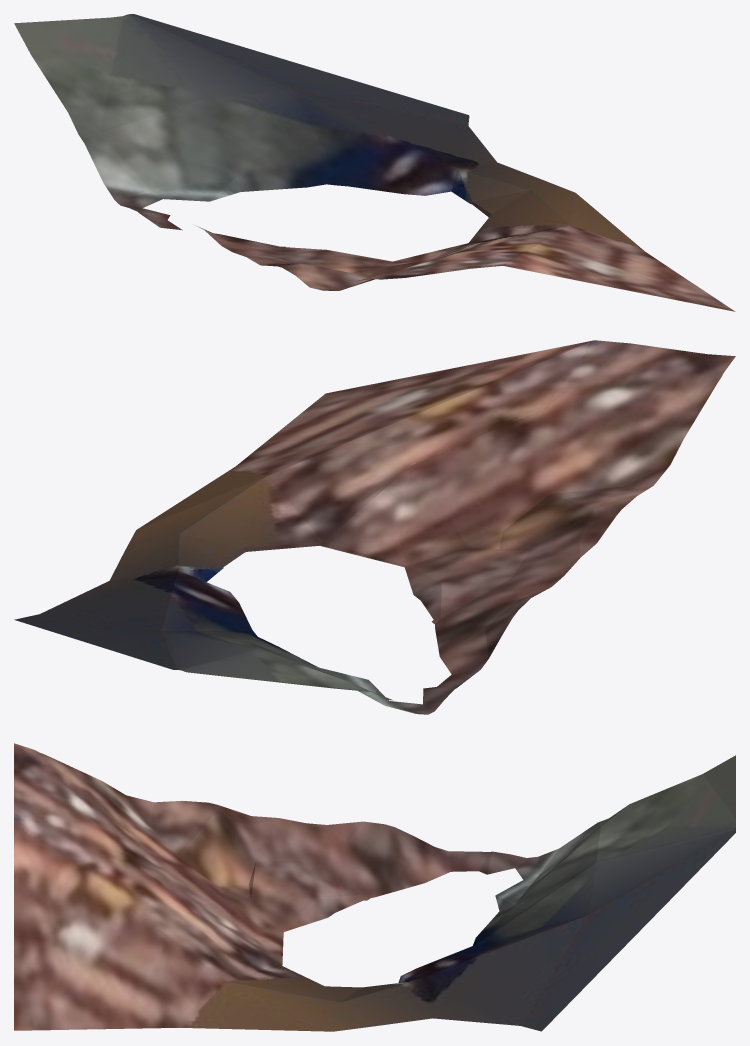
The picture shows the model from 3 angles, top to bottom: view 1: azimuth 30°, elevation 25°; view 2: azimuth 150°, elevation 25°; view 3: azimuth 270°, elevation 25°; orthographic projection. The views are drawn at different scales.
Bounding box in the file's own units: 0.9409 × 0.2995 × 1.67.
2 materials, 2 textured.
